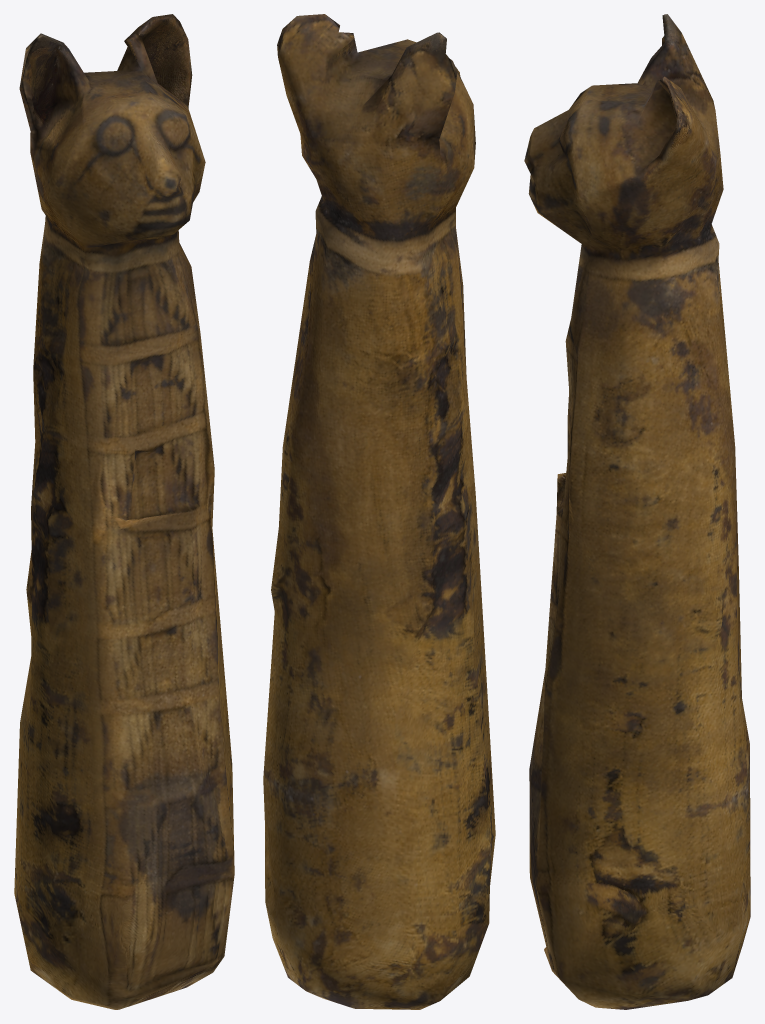
File: Mummy_of_a_Cat.fbx
3 renders of one model, left to right at view 1: azimuth 30°, elevation 25°; view 2: azimuth 150°, elevation 25°; view 3: azimuth 270°, elevation 25°, orthographic. The views are drawn at different scales.
Parts seen in each view (by area): view 1: Mummy_of_a_Cat_LOD0; view 2: Mummy_of_a_Cat_LOD0; view 3: Mummy_of_a_Cat_LOD0.
Boxes of the visible parts, x1,y1,x2,y2 form: Mummy_of_a_Cat_LOD0: (14,14,234,1009); Mummy_of_a_Cat_LOD0: (263,14,495,1009); Mummy_of_a_Cat_LOD0: (524,14,750,1009).
Size of what is drawn, in the model's own units: 22.4 by 110 by 23.89.
Materials: 1 (1 with a texture image).
